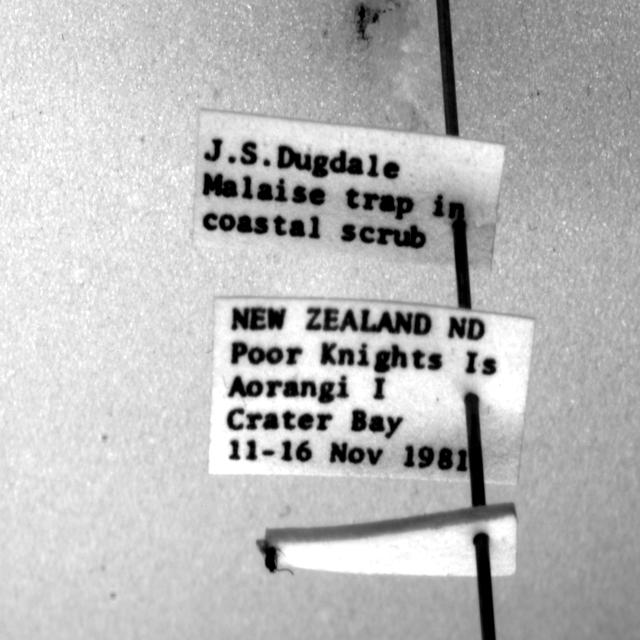typed_label: (209, 298, 534, 484), (194, 111, 505, 268)
